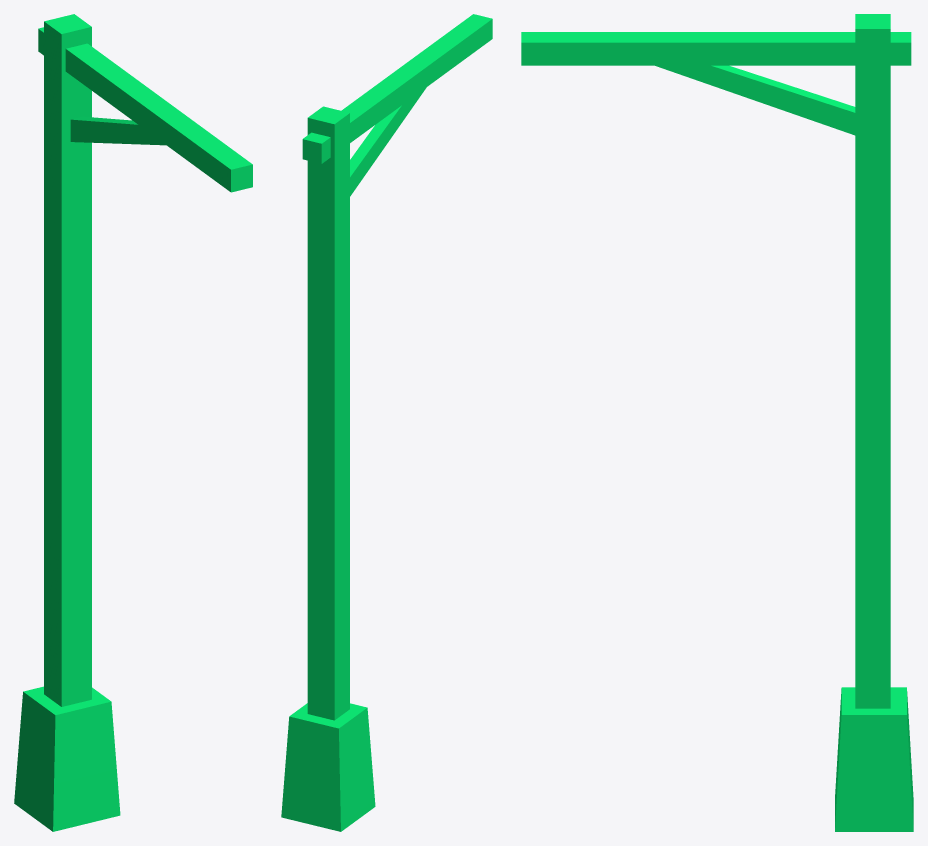
File: StreetLight_Collision.FBX
The picture shows the model from 3 angles, left to right: view 1: azimuth 30°, elevation 25°; view 2: azimuth 150°, elevation 25°; view 3: azimuth 270°, elevation 25°; orthographic projection. The views are drawn at different scales.
Visible parts, largest first — view 1: SteetLight_Collision; view 2: SteetLight_Collision; view 3: SteetLight_Collision.
Part boxes in pixels (<box>): SteetLight_Collision: <box>14,14,252,831</box>; SteetLight_Collision: <box>281,14,492,831</box>; SteetLight_Collision: <box>521,14,913,831</box>.
Bounding box in the file's own units: 0.9644 × 10.74 × 4.81.
